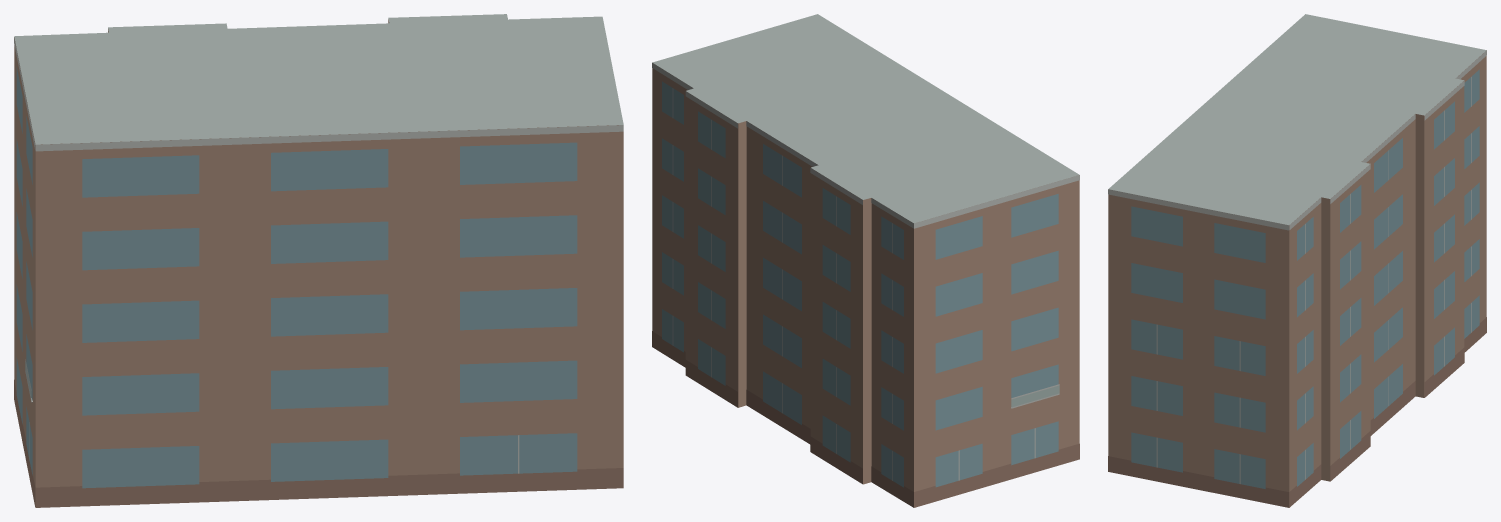
Rendered from survey-upis-32897726.glb.
3 views of the same model, side by side, from view 1: azimuth 30°, elevation 25°; view 2: azimuth 150°, elevation 25°; view 3: azimuth 270°, elevation 25° (orthographic). The views are drawn at different scales.
Parts seen in each view (by area): view 1: survey-upis-32897726.tmp; view 2: survey-upis-32897726.tmp; view 3: survey-upis-32897726.tmp.
Part boxes in pixels (bbox=[...]): survey-upis-32897726.tmp: bbox=[14, 14, 623, 507]; survey-upis-32897726.tmp: bbox=[652, 14, 1079, 507]; survey-upis-32897726.tmp: bbox=[1108, 14, 1486, 507].
Size of the model in its own units: 20.94 by 13.05 by 15.86.
